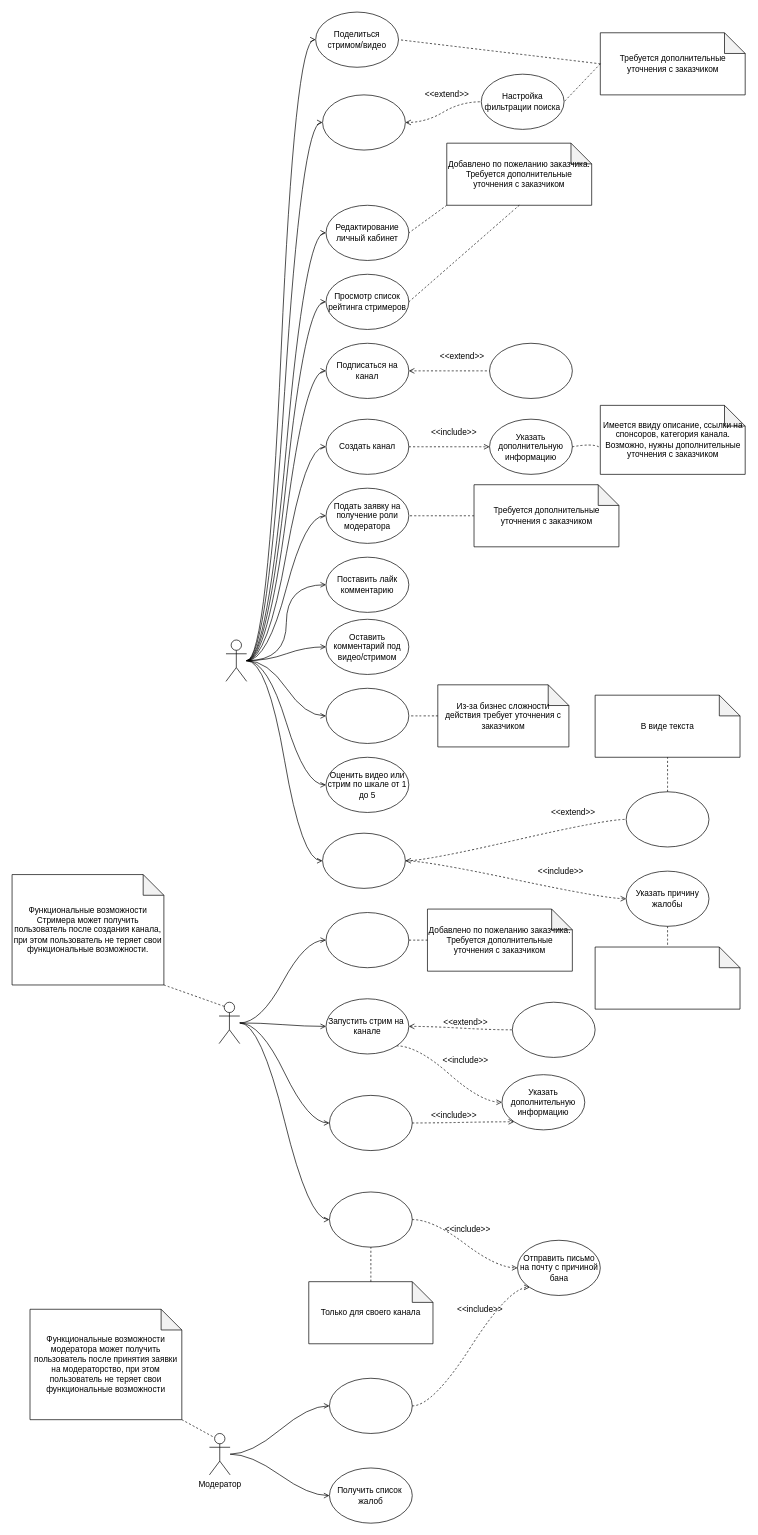
The diagram is 758 pixels wide and 1535 high, and some of its shapes have lost their labels. Each missing label, with the centre of its shape:
"Выложить видео на канале" belongs at point (370, 1123).
"Забанить пользователя на канале" belongs at point (370, 1219).
"Забанить пользователя/видео/стрим/канал" belongs at point (370, 1405).
"Задонатить стримеру" belongs at point (367, 715).
"Заполнить описание жалобы" belongs at point (667, 819).
"Запустить рестрим другого стрима на канале" belongs at point (367, 940).
"Ненормативная лексика, спам и т.д.(требует уточнения с заказчиком)" belongs at point (667, 977).
"Подписаться на уведомления о выходе стримов и видео" belongs at point (530, 370).
"Пожаловаться на комментарий/стрим/видео" belongs at point (363, 860).
"Поиск видео/стрима" belongs at point (363, 122).
"Пользователь" belongs at point (236, 660).
"Сохранить запись стрима на канале" belongs at point (553, 1029).
"Стример" belongs at point (229, 1023).
